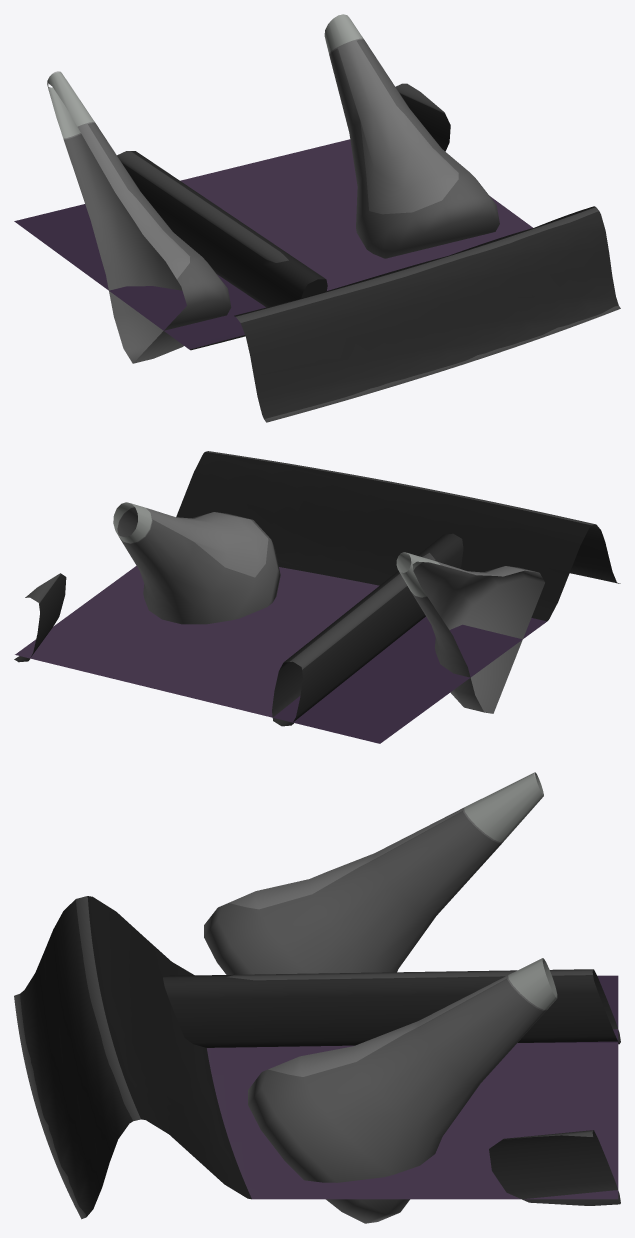
Rendered from coral_citadel_163.glb.
The picture shows the model from 3 angles, top to bottom: view 1: azimuth 30°, elevation 25°; view 2: azimuth 150°, elevation 25°; view 3: azimuth 270°, elevation 25°; orthographic projection. The views are drawn at different scales.
Visible parts, largest first — view 1: coral_citadel_163; view 2: coral_citadel_163; view 3: coral_citadel_163.
Part boxes in pixels (left/top/right/bottom): coral_citadel_163: left=14, top=14, right=620, bottom=422; coral_citadel_163: left=14, top=451, right=620, bottom=743; coral_citadel_163: left=14, top=772, right=620, bottom=1223.
Size of the model in its own units: 24 by 13.71 by 27.54.
